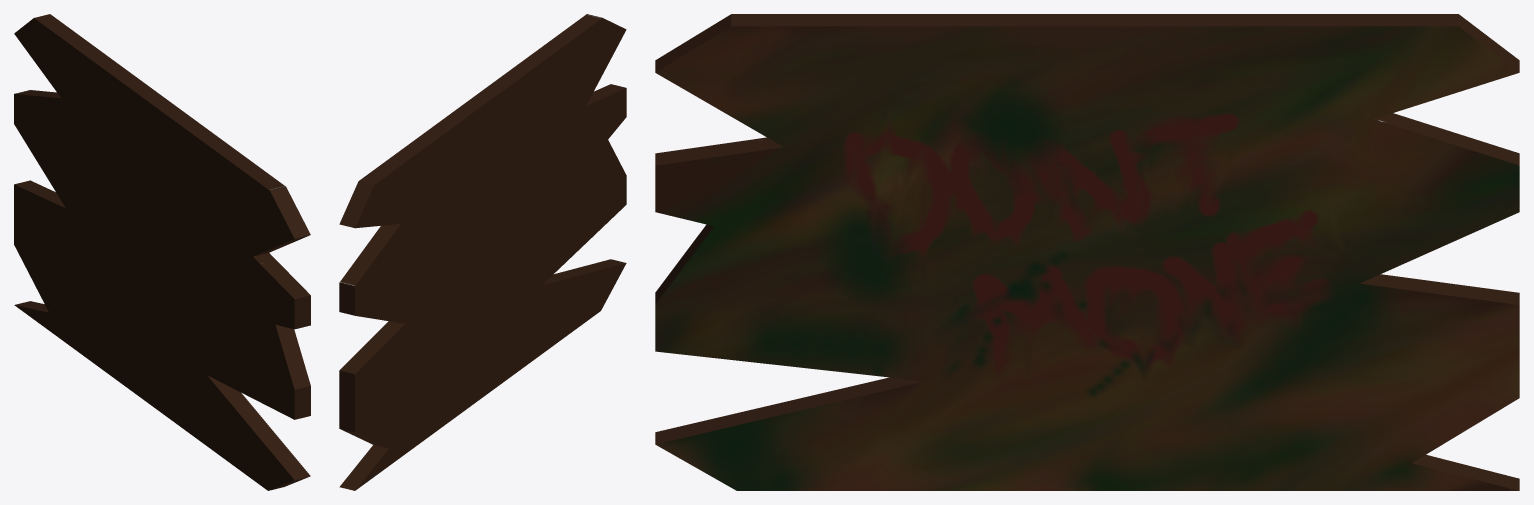
The model's file is Sign2.fbx.
3 renders of one model, left to right at view 1: azimuth 30°, elevation 25°; view 2: azimuth 150°, elevation 25°; view 3: azimuth 270°, elevation 25°, orthographic. The views are drawn at different scales.
Parts seen in each view (by area): view 1: Cube.001; view 2: Cube.001; view 3: Cube.001.
Boxes of the visible parts, <box> form: Cube.001: <box>14,14,310,490</box>; Cube.001: <box>339,14,626,490</box>; Cube.001: <box>655,14,1519,490</box>.
Size of the model in its own units: 3.21 by 56.75 by 95.7.
Materials: 1 (1 with a texture image).
